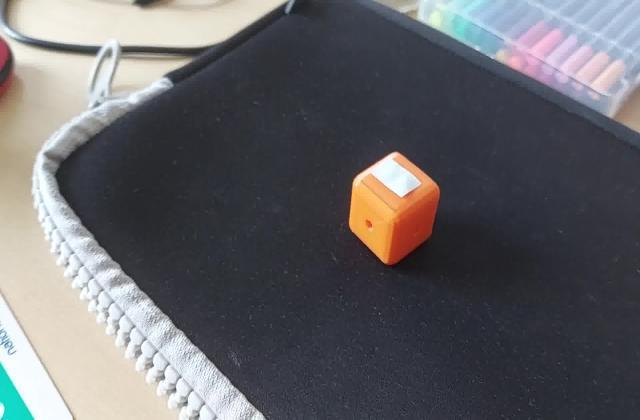sticker: (343, 148, 441, 270)
white: (375, 168, 423, 200)
